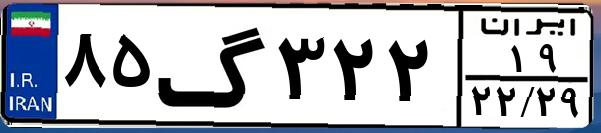1: (508, 27, 537, 80)
2: (385, 28, 445, 110), (330, 28, 385, 110), (470, 70, 495, 125), (495, 70, 520, 125), (535, 70, 560, 125)
3: (270, 28, 330, 110)
5: (110, 28, 156, 98)
8: (57, 26, 110, 100)
9: (560, 70, 590, 125), (537, 27, 568, 80)
گ: (156, 12, 270, 120)
